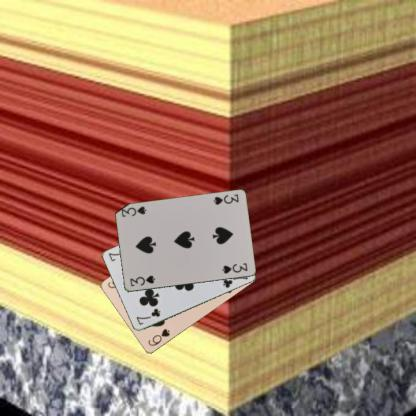3s: (127, 272, 156, 288), (210, 192, 240, 206)
6s: (146, 326, 171, 347)
7c: (133, 306, 162, 326)
